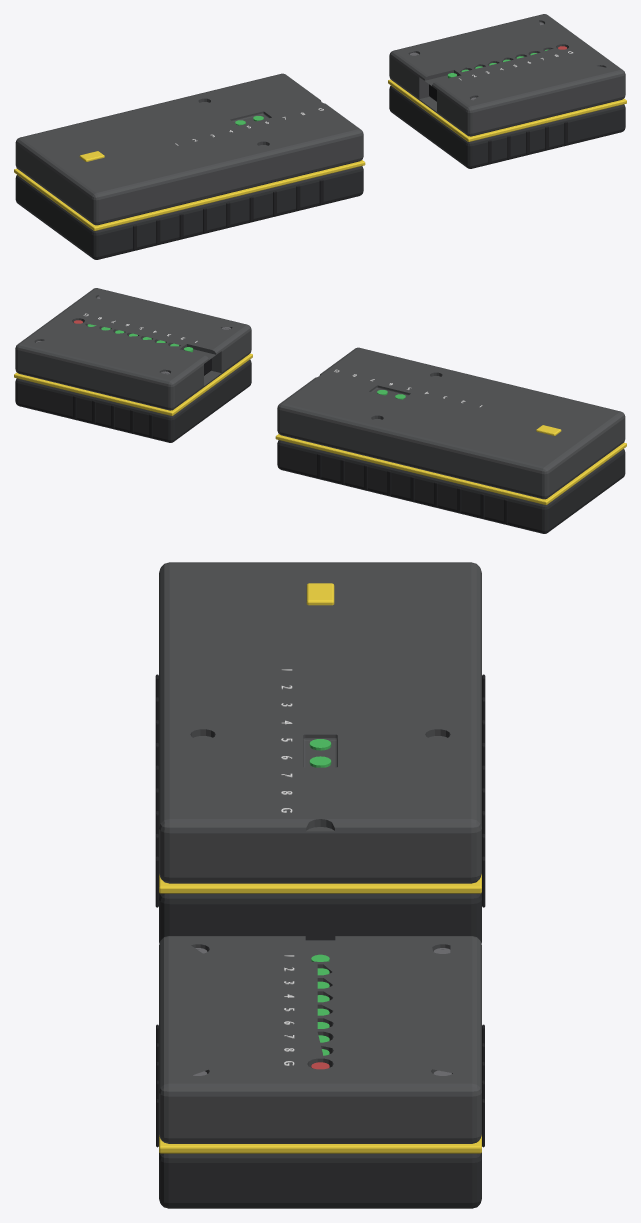
File: LANTester.fbx
The picture shows the model from 3 angles, top to bottom: view 1: azimuth 30°, elevation 25°; view 2: azimuth 150°, elevation 25°; view 3: azimuth 270°, elevation 25°; orthographic projection. The views are drawn at different scales.
Visible parts, largest first — view 1: Main_Shell_Upper, Remote_Shell_Upper, Main_Shell_Lower, Remote_Shell_Lower, Main_Shell_Trim, Remote_Shell_Trim; view 2: Main_Shell_Upper, Remote_Shell_Upper, Main_Shell_Lower, Remote_Shell_Lower, Main_Shell_Trim, Remote_Shell_Trim; view 3: Main_Shell_Upper, Remote_Shell_Upper, Remote_Shell_Lower, Main_Shell_Lower, Main_Shell_Trim, Remote_Shell_Trim.
Part boxes in pixels (<box>): Main_Shell_Upper: <box>15,73,363,225</box>; Remote_Shell_Upper: <box>389,14,625,136</box>; Main_Shell_Lower: <box>15,166,363,259</box>; Remote_Shell_Lower: <box>389,85,625,168</box>; Main_Shell_Trim: <box>14,160,365,230</box>; Remote_Shell_Trim: <box>388,79,626,141</box>; Main_Shell_Upper: <box>277,347,625,499</box>; Remote_Shell_Upper: <box>15,288,251,410</box>; Main_Shell_Lower: <box>277,440,625,533</box>; Remote_Shell_Lower: <box>15,359,251,442</box>; Main_Shell_Trim: <box>275,434,626,504</box>; Remote_Shell_Trim: <box>14,353,252,415</box>; Main_Shell_Upper: <box>159,562,481,883</box>; Remote_Shell_Upper: <box>159,936,481,1143</box>; Remote_Shell_Lower: <box>159,1152,481,1208</box>; Main_Shell_Lower: <box>159,892,481,943</box>; Main_Shell_Trim: <box>159,874,481,893</box>; Remote_Shell_Trim: <box>159,1135,481,1153</box>.
Size of what is drawn, in the model's own units: 25.15 by 3.09 by 6.74.
